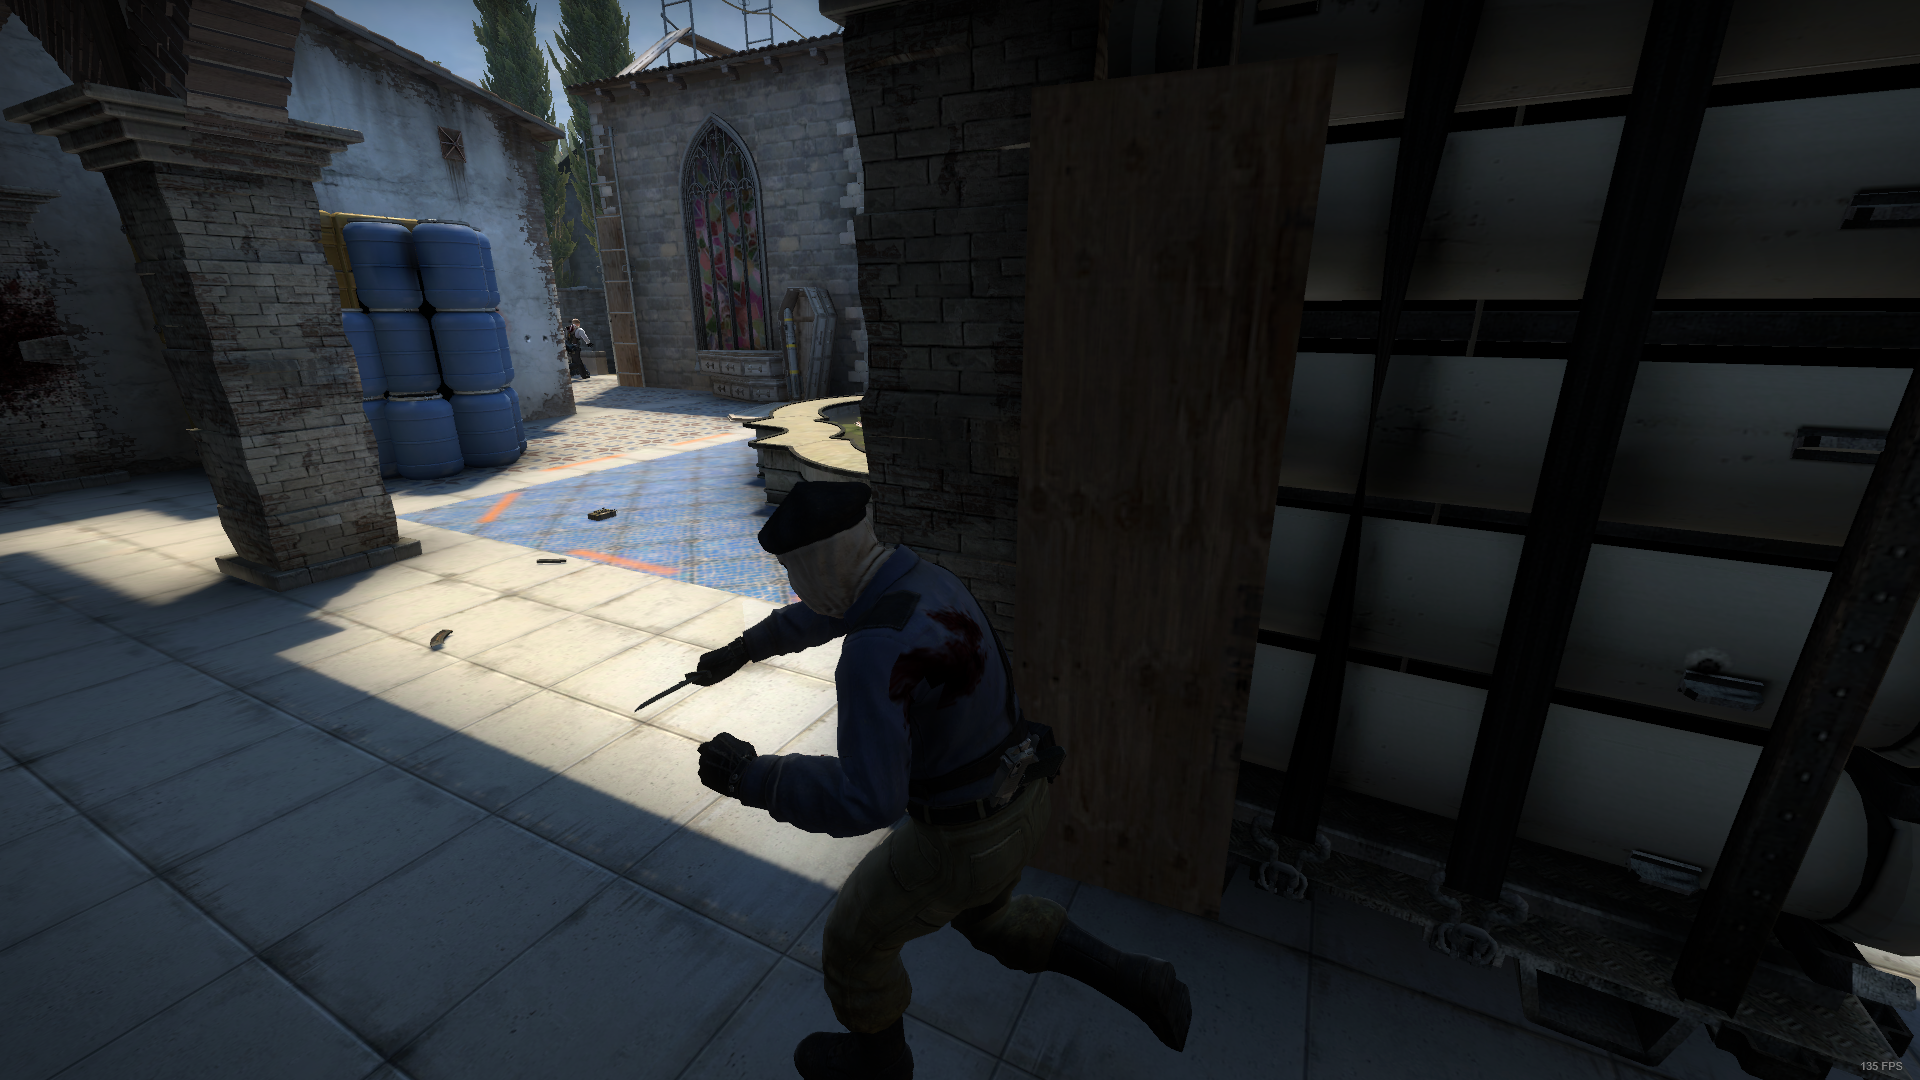t: (688, 473, 1199, 1080)
